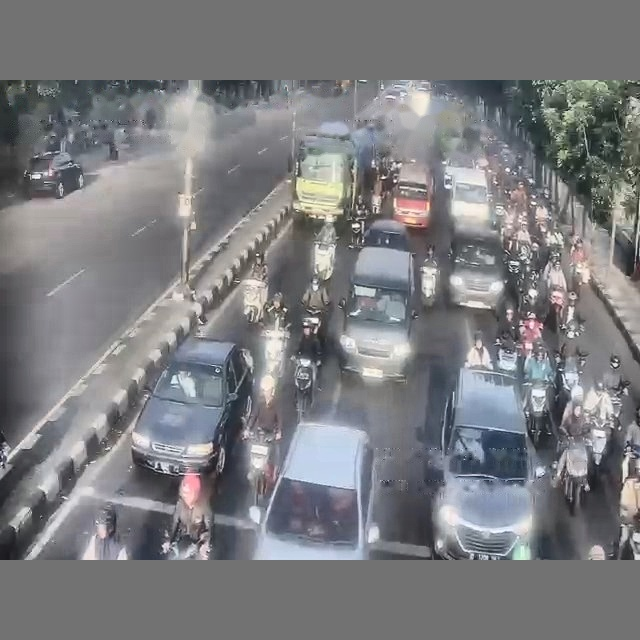Mobil: (432, 368, 545, 559), (249, 422, 379, 559), (131, 336, 253, 475), (449, 229, 505, 310), (23, 151, 84, 198), (363, 219, 410, 251), (383, 88, 406, 105)
Motor: (558, 437, 588, 515), (246, 429, 274, 506), (525, 381, 549, 446), (587, 415, 611, 478), (262, 326, 290, 379), (294, 357, 316, 422), (243, 278, 267, 323), (608, 380, 628, 429), (313, 241, 336, 281), (166, 536, 204, 559), (420, 262, 437, 306), (496, 339, 517, 374), (350, 216, 365, 248)
Truk: (291, 121, 374, 219)
